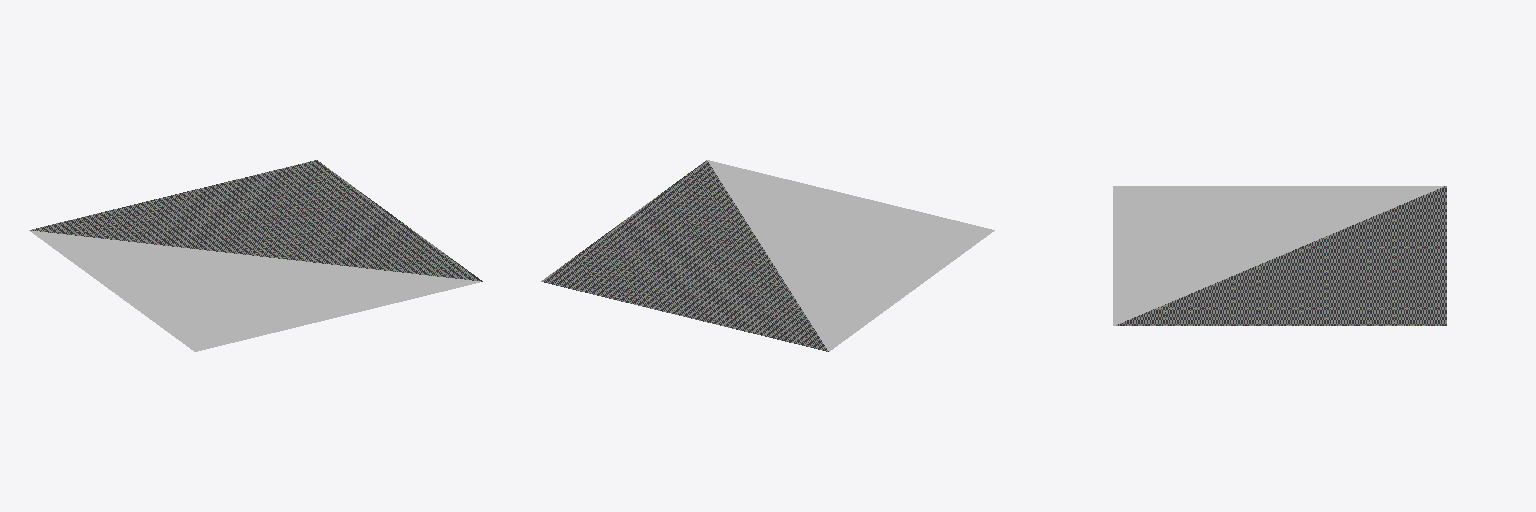
3 views of the same model, side by side, from view 1: azimuth 30°, elevation 25°; view 2: azimuth 150°, elevation 25°; view 3: azimuth 270°, elevation 25° (orthographic).
Visible parts, largest first — view 1: Plane.1; view 2: Plane.1; view 3: Plane.1.
Part boxes in pixels (x1,y1,x2,y2): Plane.1: (29, 160, 482, 351); Plane.1: (541, 160, 994, 351); Plane.1: (1113, 186, 1446, 325).
Bounding box in the file's own units: 100 × 0 × 100.
Materials: 1 (1 with a texture image).